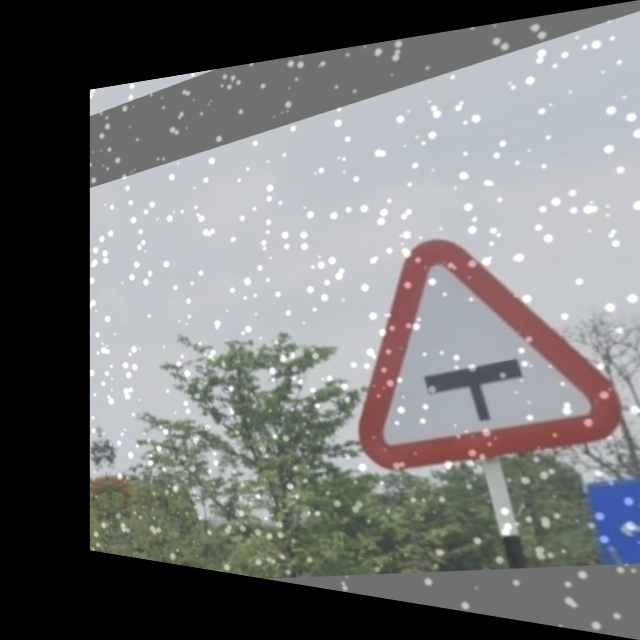T_Intersection: (312, 192, 639, 507)
